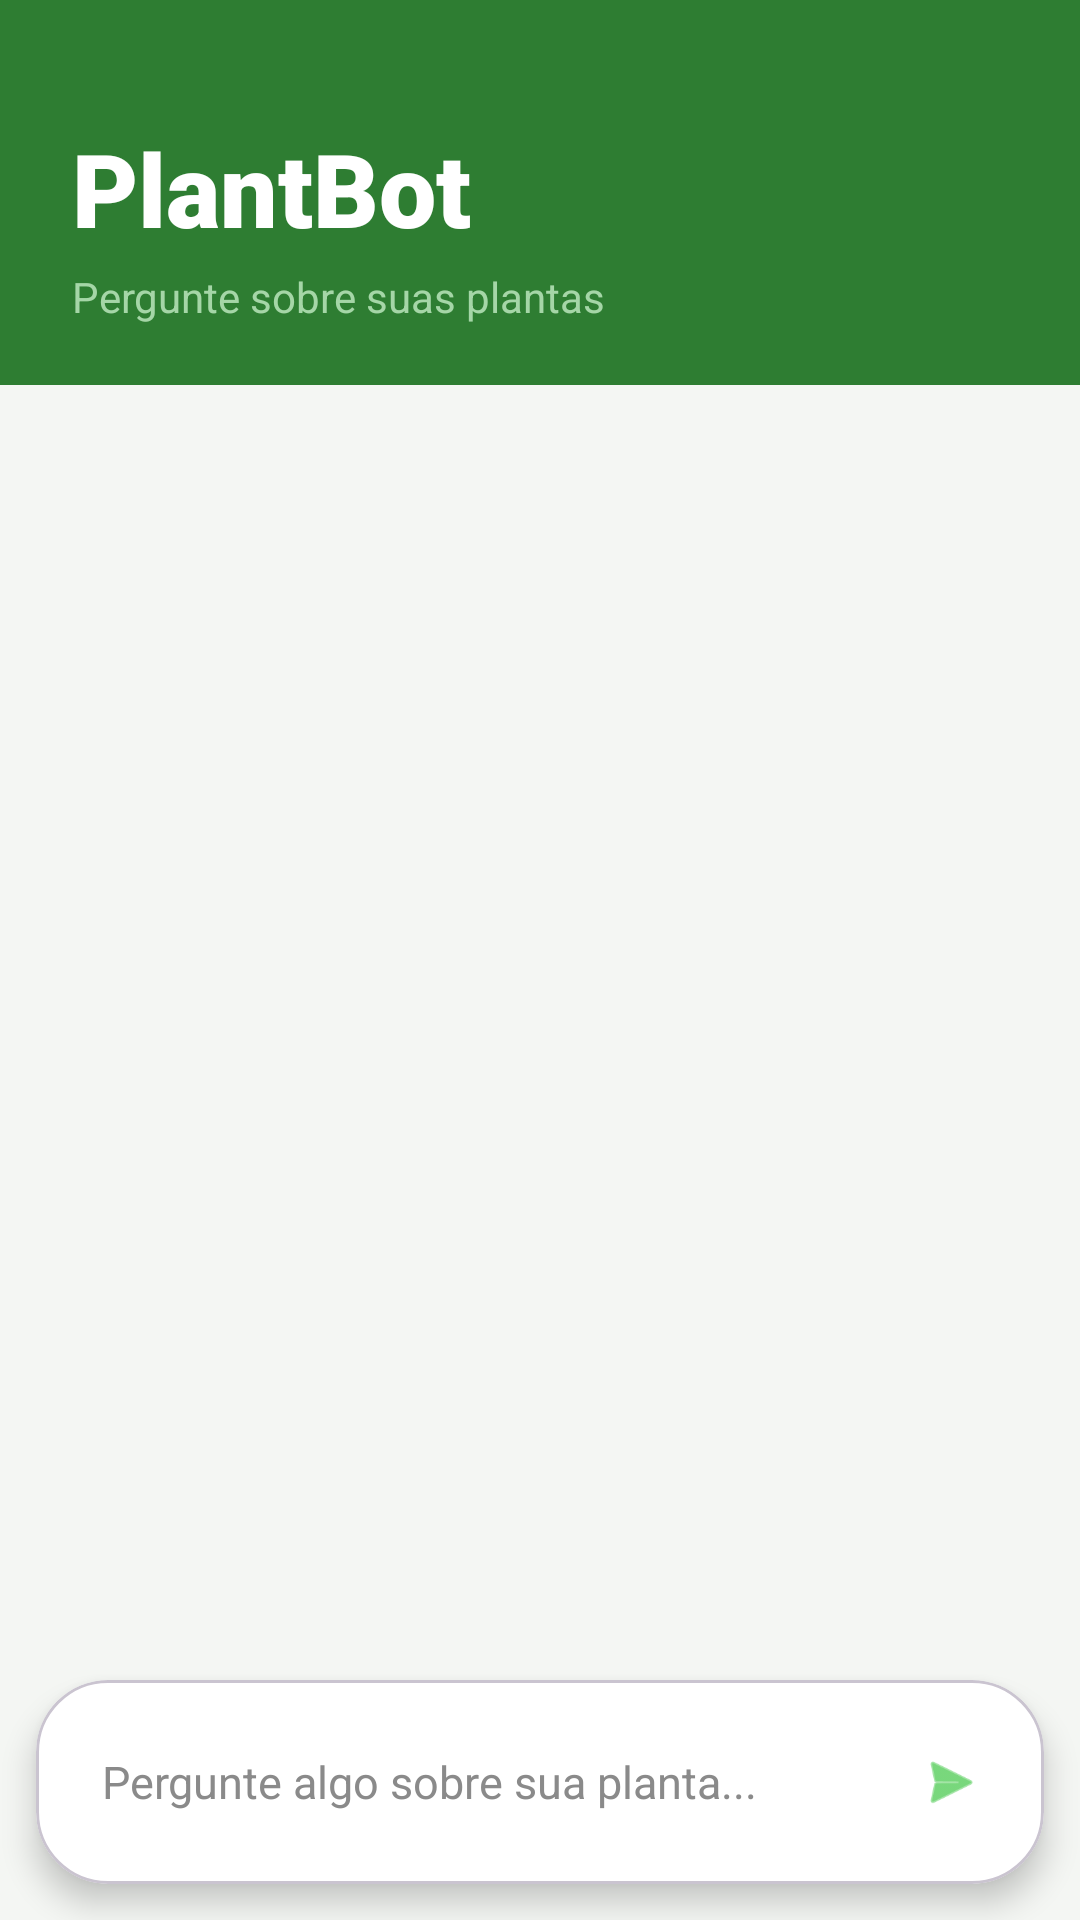

Point at icon controls on the screen. Image size 1080w x 1920h, points as [x,y].
send: [951,1782]
